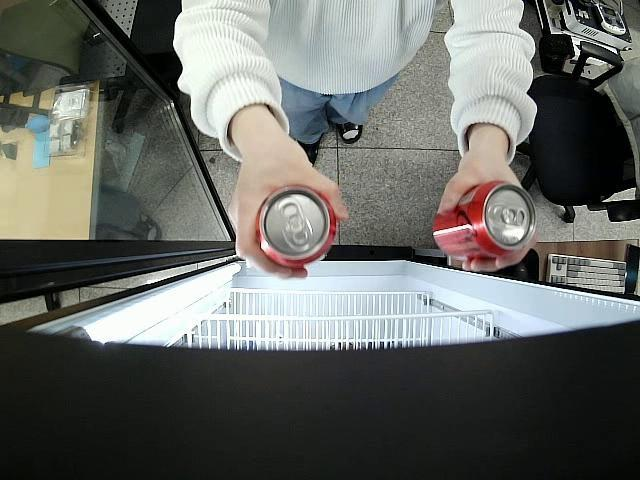11_cocaColaZero: (431, 182, 536, 261), (255, 186, 338, 270)
